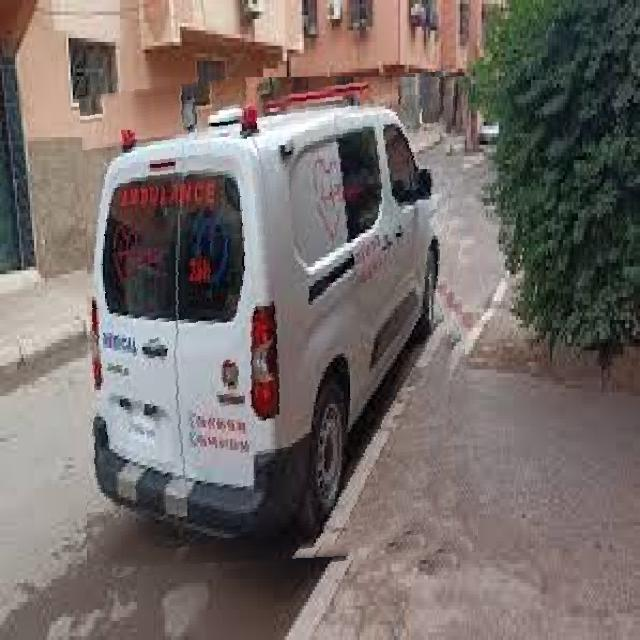ambulance: (87, 77, 471, 571)
